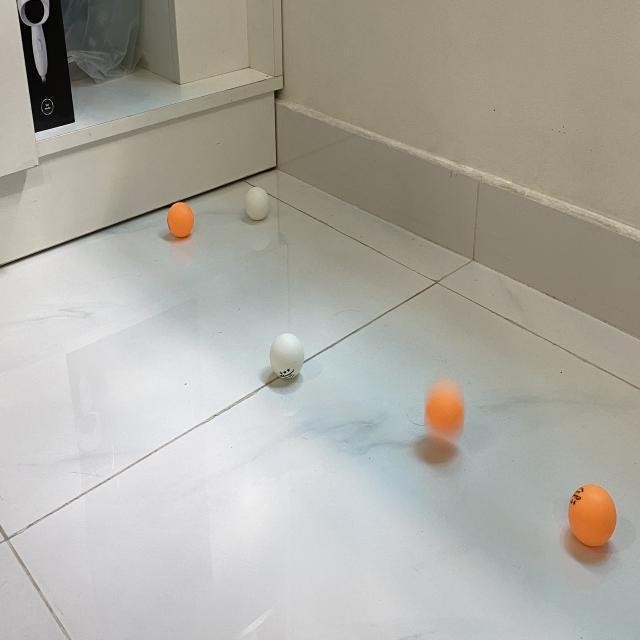ping-pong-ball: (570, 483, 616, 547), (426, 382, 466, 444), (270, 334, 304, 379), (167, 202, 195, 236), (244, 188, 270, 219)
